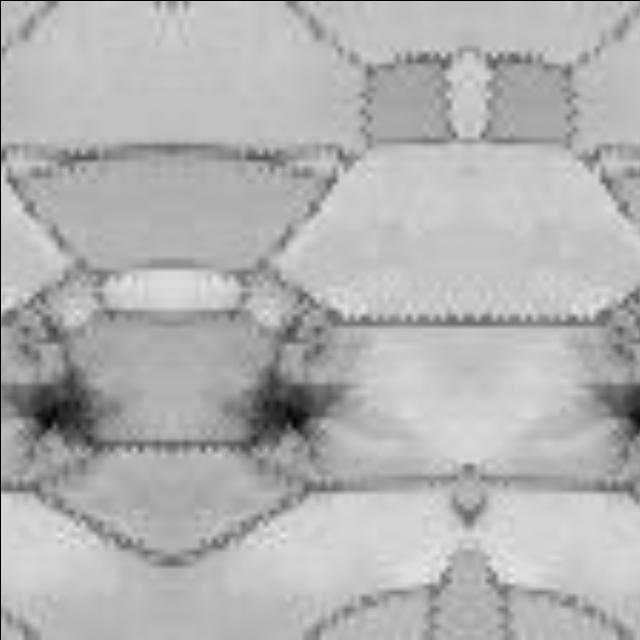good_void: (233, 361, 354, 475), (0, 361, 110, 475), (584, 369, 640, 475)
